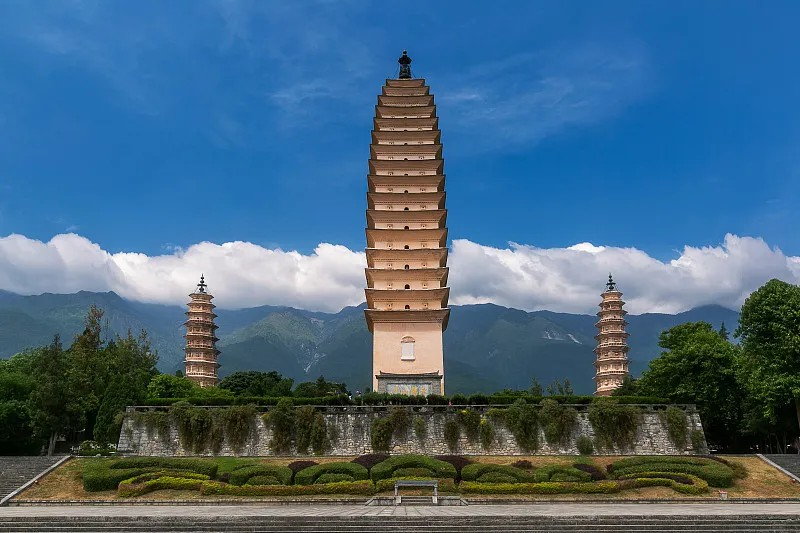ThreePagoda: (364, 50, 451, 396)
